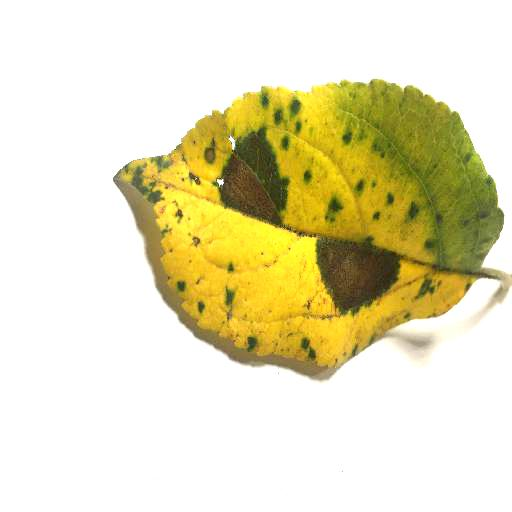Brown_Spot: (215, 153, 287, 221), (323, 237, 393, 302)
